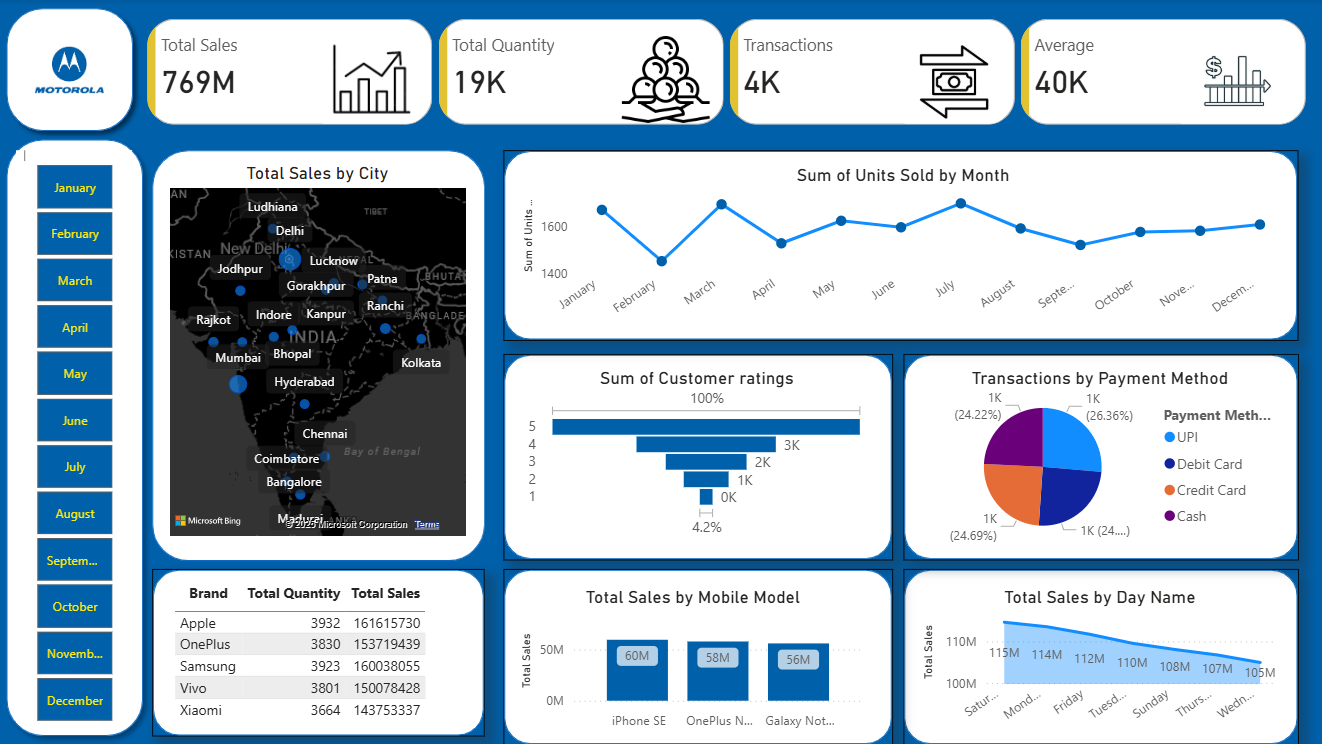

Layout of this report page (visuals, bound fields, positions):
{"tool":"powerbi","page":{"name":"Page 1","canvas":[1280,720],"ordinal":0},"visuals":[{"type":"shape","box":[875.5,550.3,381.5,170.2],"z":0},{"type":"shape","box":[489.9,343.1,376,199],"z":1000},{"type":"shape","box":[875.5,343.1,381.5,199],"z":2000},{"type":"shape","box":[489.9,550.3,376,170.2],"z":3000},{"type":"shape","box":[150.9,145.5,321.1,396.6],"z":4000},{"type":"shape","box":[489.9,145.5,767.1,183.9],"z":5000},{"type":"shape","box":[1.2,0,139.9,136.3],"z":6000},{"type":"image","box":[19.3,19.3,103.8,98.9],"z":7000},{"type":"shape","box":[1.2,126.7,149.6,593.6],"z":8000},{"type":"slicer","fields":{"Values":["Sales_Data.Date.Variation.Date Hierarchy.Month"]},"box":[19.3,146,112.2,552.5],"z":9000},{"type":"cardVisual","fields":{"Data":["Sales_Data.Total Sales","Sales_Data.Total Quantity","Sales_Data.Transactions","Sales_Data.Average"]},"box":[141.2,14.5,1129.2,112.2],"z":10000},{"type":"lineChart","fields":{"Y":["Sum(Sales_Data.Units Sold)"],"Category":["Sales_Data.Date.Variation.Date Hierarchy.Month","Sales_Data.Date.Variation.Date Hierarchy.Day"]},"box":[503.6,159.2,745.1,156.4],"z":11000},{"type":"map","fields":{"Category":["Sales_Data.City"],"Size":["Sales_Data.Total Sales"]},"box":[163.3,157.8,295,365],"z":12000},{"type":"lineClusteredColumnComboChart","fields":{"Category":["Sales_Data.Mobile Model"],"Y":["Sales_Data.Total Sales"]},"box":[502.2,566.7,341.7,145.5],"z":13000},{"type":"pieChart","fields":{"Category":["Sales_Data.Payment Method"],"Y":["Sales_Data.Transactions"]},"box":[889.2,355.4,352.7,177],"z":14000},{"type":"funnel","title":"Sum of Customer ratings","fields":{"Y":["Sum(Sales_Data.Customer Ratings)"],"Category":["Sales_Data.Customer Ratings"]},"box":[509.1,355.4,334.8,167.4],"z":15000},{"type":"stackedAreaChart","fields":{"Y":["Sales_Data.Total Sales"],"Category":["Sales_Data.Day Name"]},"box":[889.2,566.7,352.7,141.3],"z":16500},{"type":"shape","box":[150.9,550.3,321.1,161.9],"z":16501},{"type":"tableEx","fields":{"Values":["Sales_Data.Brand","Sales_Data.Total Quantity","Sales_Data.Total Sales"]},"box":[166,557.1,292.3,148.2],"z":16502}]}

Visuals, with their boxes in screenshot pixels (x1, y1, x2, y2), scaled from the page's 1280x720 canvas onto the 1322x744 screenshot:
shape: pyautogui.locateOnScreen(904, 569, 1298, 743)
shape: pyautogui.locateOnScreen(506, 355, 894, 560)
shape: pyautogui.locateOnScreen(904, 355, 1298, 560)
shape: pyautogui.locateOnScreen(506, 569, 894, 743)
shape: pyautogui.locateOnScreen(156, 150, 487, 560)
shape: pyautogui.locateOnScreen(506, 150, 1298, 340)
shape: pyautogui.locateOnScreen(1, 0, 146, 141)
image: pyautogui.locateOnScreen(20, 20, 127, 122)
shape: pyautogui.locateOnScreen(1, 131, 156, 743)
slicer - Sales_Data.Date.Variation.Date Hierarchy.Month: pyautogui.locateOnScreen(20, 151, 136, 722)
cardVisual - Sales_Data.Total Sales x Sales_Data.Total Quantity: pyautogui.locateOnScreen(146, 15, 1312, 131)
lineChart - Sum(Sales_Data.Units Sold) x Sales_Data.Date.Variation.Date Hierarchy.Month: pyautogui.locateOnScreen(520, 165, 1290, 326)
map - Sales_Data.City x Sales_Data.Total Sales: pyautogui.locateOnScreen(169, 163, 473, 540)
lineClusteredColumnComboChart - Sales_Data.Mobile Model x Sales_Data.Total Sales: pyautogui.locateOnScreen(519, 586, 872, 736)
pieChart - Sales_Data.Payment Method x Sales_Data.Transactions: pyautogui.locateOnScreen(918, 367, 1283, 550)
"Sum of Customer ratings" funnel: pyautogui.locateOnScreen(526, 367, 872, 540)
stackedAreaChart - Sales_Data.Total Sales x Sales_Data.Day Name: pyautogui.locateOnScreen(918, 586, 1283, 732)
shape: pyautogui.locateOnScreen(156, 569, 487, 736)
tableEx - Sales_Data.Brand x Sales_Data.Total Quantity: pyautogui.locateOnScreen(171, 576, 473, 729)
